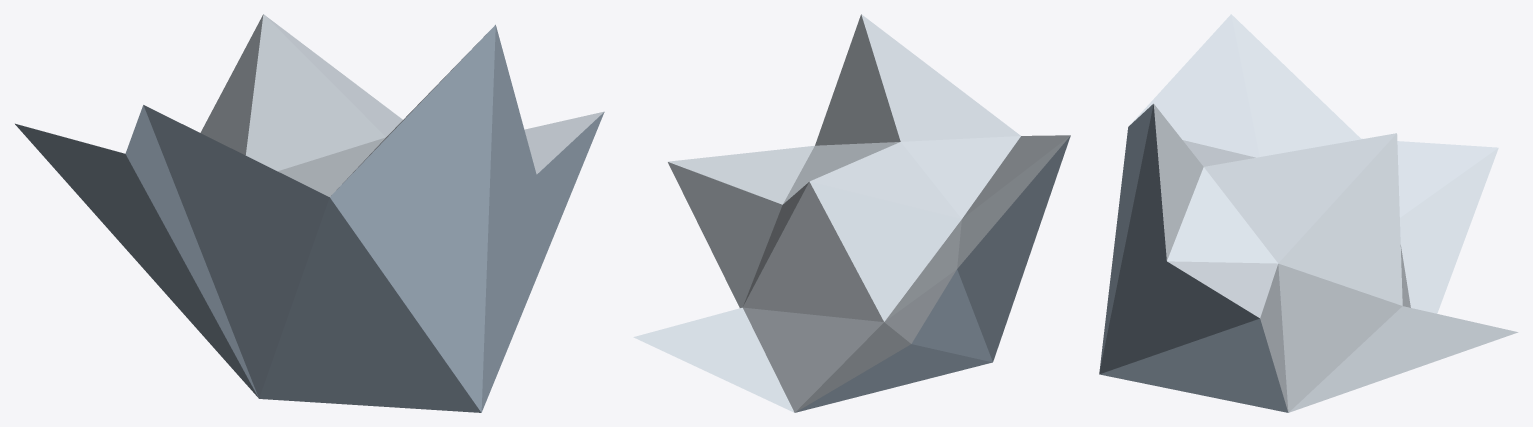
The model's file is BushWinter1_Alt2.fbx.
3 views of the same model, side by side, from view 1: azimuth 30°, elevation 25°; view 2: azimuth 150°, elevation 25°; view 3: azimuth 270°, elevation 25° (orthographic). The views are drawn at different scales.
Parts seen in each view (by area): view 1: BushWinter1_Alt2; view 2: BushWinter1_Alt2; view 3: BushWinter1_Alt2.
Boxes of the visible parts, box(x1,y1,x2,y2) form: BushWinter1_Alt2: box(15, 14, 604, 412); BushWinter1_Alt2: box(633, 14, 1070, 412); BushWinter1_Alt2: box(1099, 14, 1518, 412).
Bounding box in the file's own units: 0.6828 × 0.4811 × 0.6299.
